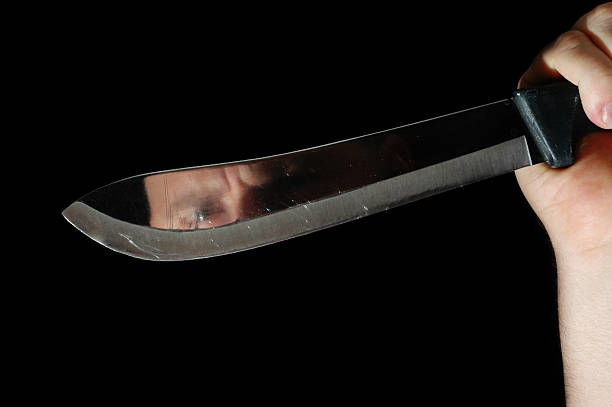knife: (58, 78, 612, 264)
